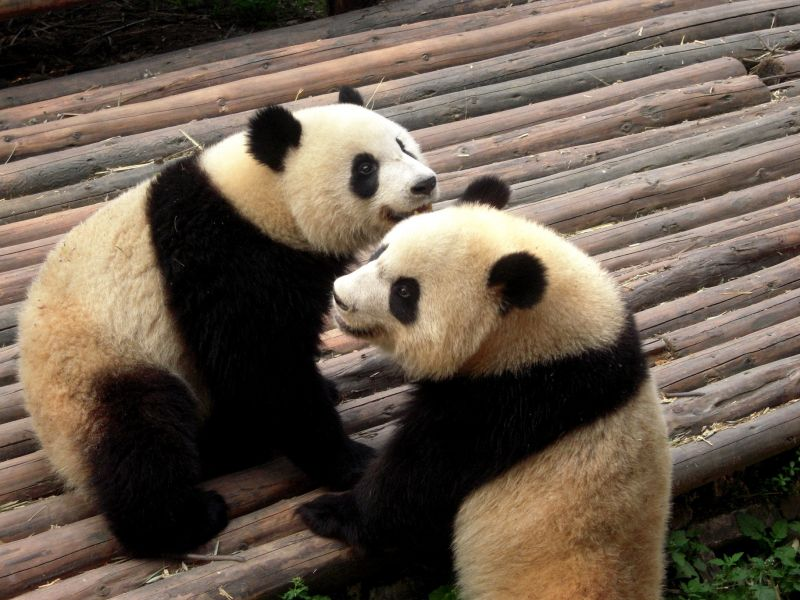panda: (8, 81, 441, 567), (297, 174, 682, 600)
